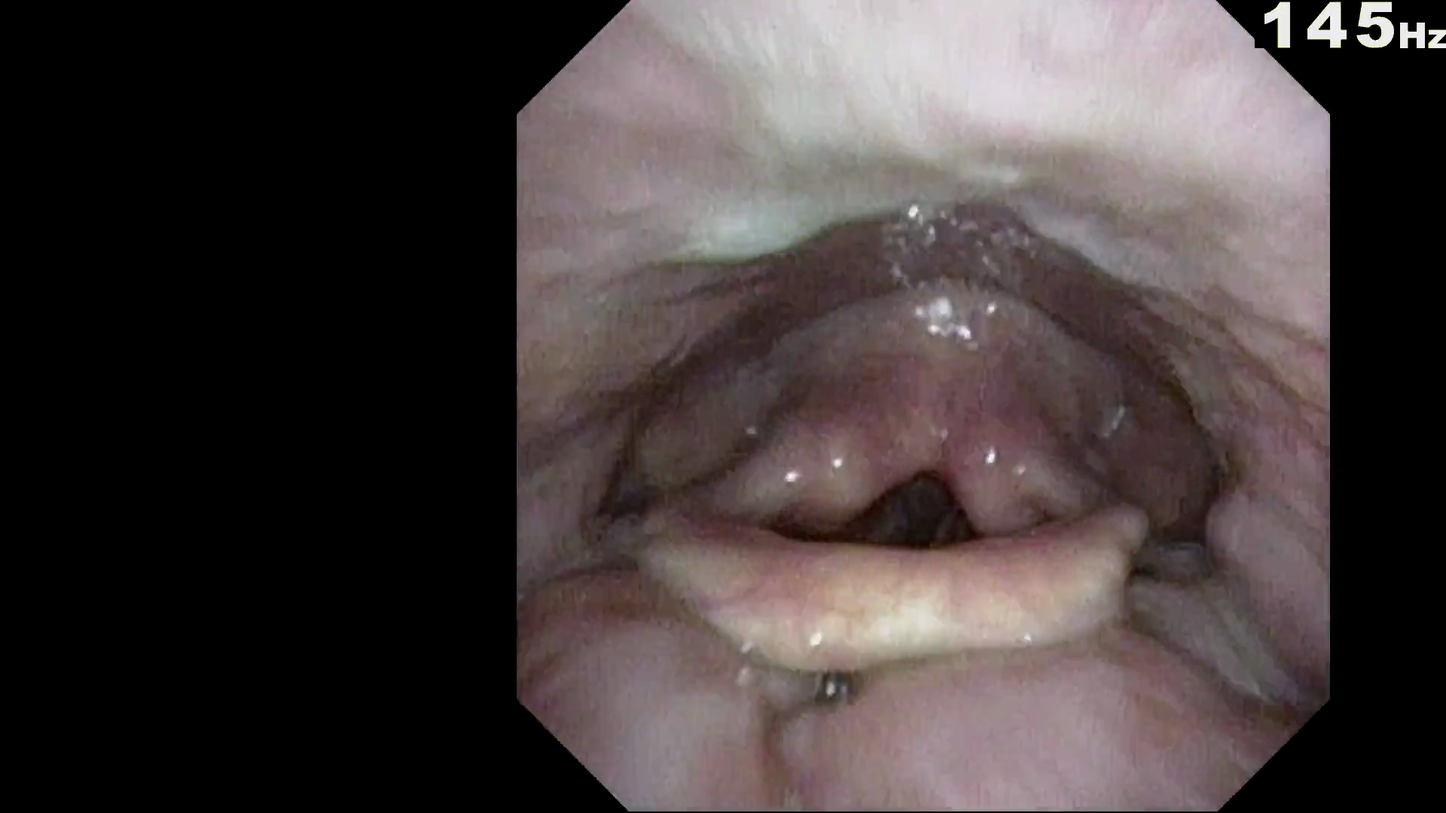epiglottis: (674, 506, 1205, 648)
trachea: (879, 463, 986, 548)
